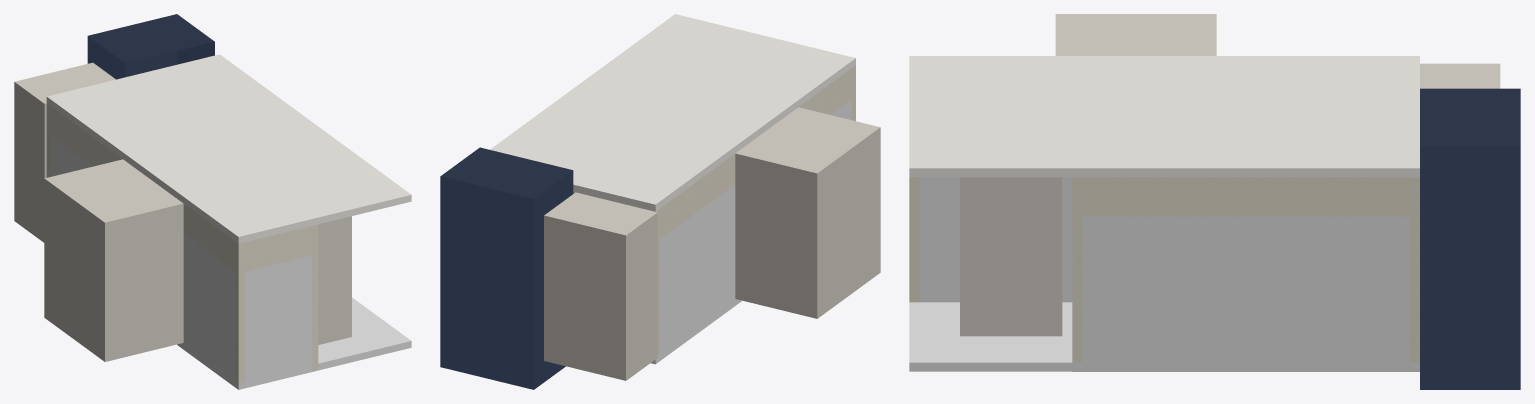
Rendered from living_room_web_mobile.glb.
3 renders of one model, left to right at view 1: azimuth 30°, elevation 25°; view 2: azimuth 150°, elevation 25°; view 3: azimuth 270°, elevation 25°, orthographic. The views are drawn at different scales.
Parts seen in each view (by area): view 1: WEB_ARCH_Roof_Slab, WEB_RET_D2_Adjacent, COL_Wall_PassageEnd, WEB_RET_D1_Adjacent, COL_Wall_Left_A, WEB_RET_W1_Exterior, WEB_ARCH_Wall_Left, WEB_RET_D3_Adjacent, COL_Floor, WEB_ARCH_Wall_PassageEnd, WEB_ARCH_Wall_PassageRight, COL_Wall_Left_B; view 2: WEB_ARCH_Roof_Slab, WEB_RET_D2_Adjacent, WEB_RET_W1_Exterior, WEB_RET_D1_Adjacent, COL_Wall_Left_B, WEB_ARCH_Wall_Left, COL_Floor; view 3: WEB_ARCH_Roof_Slab, COL_Wall_Right_TV, WEB_RET_W1_Exterior, WEB_RET_D3_Adjacent, WEB_ARCH_Wall_Right_TV, COL_Floor, WEB_RET_D2_Adjacent, COL_Wall_PassageRight_A, WEB_RET_D1_Adjacent, WEB_ARCH_Wall_Far, WEB_ARCH_Wall_PassageRight, COL_Wall_PassageRight_B.
Part boxes in pixels (box(x1,y1,x2,y2)): WEB_ARCH_Roof_Slab: box(46, 54, 411, 243); WEB_RET_D2_Adjacent: box(44, 159, 183, 361); COL_Wall_PassageEnd: box(245, 255, 311, 381); WEB_RET_D1_Adjacent: box(14, 62, 115, 242); COL_Wall_Left_A: box(183, 233, 234, 379); WEB_RET_W1_Exterior: box(87, 14, 214, 79); WEB_ARCH_Wall_Left: box(46, 103, 245, 389); WEB_RET_D3_Adjacent: box(318, 216, 351, 344); COL_Floor: box(177, 297, 411, 389); WEB_ARCH_Wall_PassageEnd: box(245, 226, 311, 271); WEB_ARCH_Wall_PassageRight: box(311, 224, 318, 371); COL_Wall_Left_B: box(50, 136, 92, 176); WEB_ARCH_Roof_Slab: box(490, 14, 855, 211); WEB_RET_D2_Adjacent: box(735, 107, 880, 318); WEB_RET_W1_Exterior: box(440, 147, 573, 389); WEB_RET_D1_Adjacent: box(544, 192, 657, 380); COL_Wall_Left_B: box(659, 185, 735, 353); WEB_ARCH_Wall_Left: box(654, 65, 855, 362); COL_Floor: box(651, 299, 741, 364); WEB_ARCH_Roof_Slab: box(909, 56, 1419, 177); COL_Wall_Right_TV: box(1082, 216, 1409, 362); WEB_RET_W1_Exterior: box(1420, 88, 1520, 389); WEB_RET_D3_Adjacent: box(960, 177, 1062, 336); WEB_ARCH_Wall_Right_TV: box(1072, 177, 1409, 371); COL_Floor: box(909, 302, 1419, 371); WEB_RET_D2_Adjacent: box(1055, 14, 1216, 55); COL_Wall_PassageRight_A: box(919, 177, 959, 302); WEB_RET_D1_Adjacent: box(1420, 63, 1500, 88); WEB_ARCH_Wall_Far: box(1409, 177, 1419, 371); WEB_ARCH_Wall_PassageRight: box(909, 177, 919, 302); COL_Wall_PassageRight_B: box(1062, 177, 1072, 302).
Size of the model in its own units: 5.76 by 4 by 9.11.
Materials: 51 (19 with a texture image).
